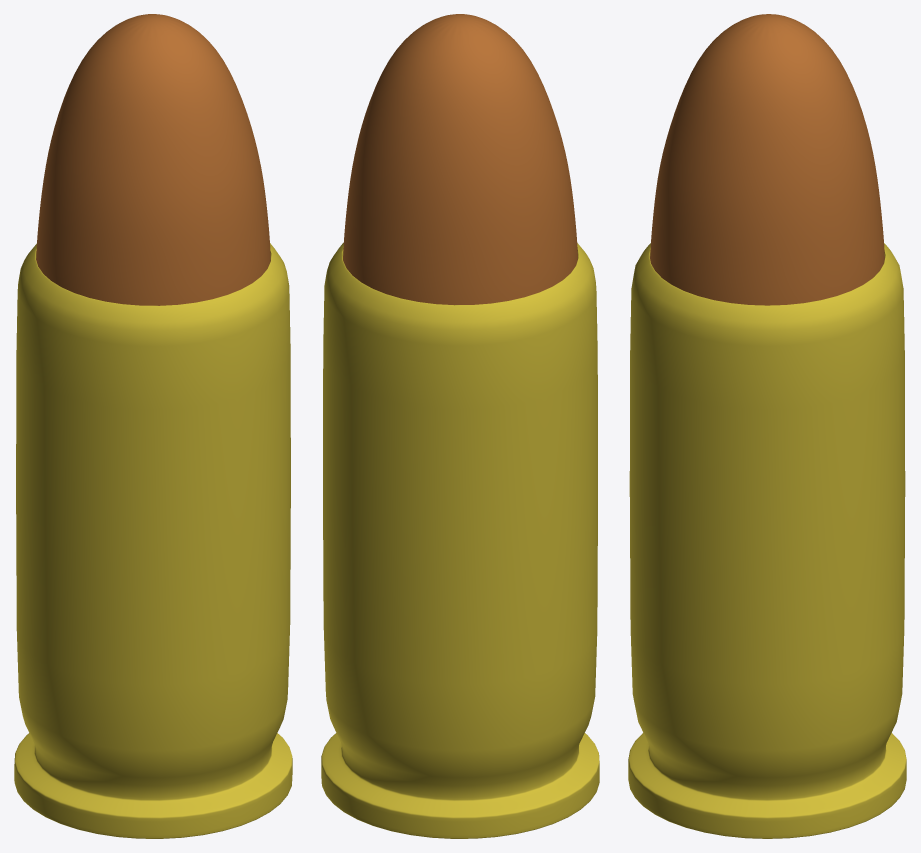
File: gun_bullet_cartoonic.glb
3 renders of one model, left to right at view 1: azimuth 30°, elevation 25°; view 2: azimuth 150°, elevation 25°; view 3: azimuth 270°, elevation 25°, orthographic.
Visible parts, largest first — view 1: Cylinder_0; view 2: Cylinder_0; view 3: Cylinder_0.
Boxes of the visible parts, x1,y1,x2,y2 form: Cylinder_0: (14, 14, 292, 838); Cylinder_0: (321, 14, 599, 838); Cylinder_0: (628, 14, 906, 838).
Size of the model in its own units: 1.99 by 6 by 1.99.
